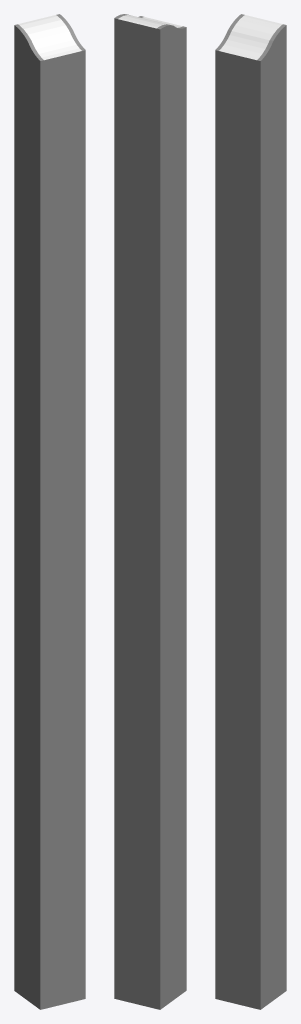
File: slopechunk.fbx
3 renders of one model, left to right at view 1: azimuth 30°, elevation 25°; view 2: azimuth 150°, elevation 25°; view 3: azimuth 330°, elevation 25°, orthographic.
Parts seen in each view (by area): view 1: slopechunk; view 2: slopechunk; view 3: slopechunk.
Part boxes in pixels (bbox=[...]): slopechunk: bbox=[14, 14, 85, 1009]; slopechunk: bbox=[114, 14, 186, 1009]; slopechunk: bbox=[215, 14, 286, 1009].
Bounding box in the file's own units: 25 × 25 × 508.
